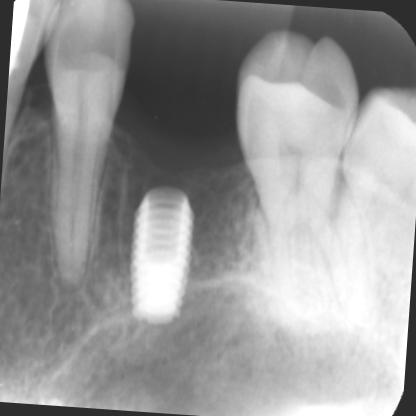Bicon: (119, 180, 204, 330)
